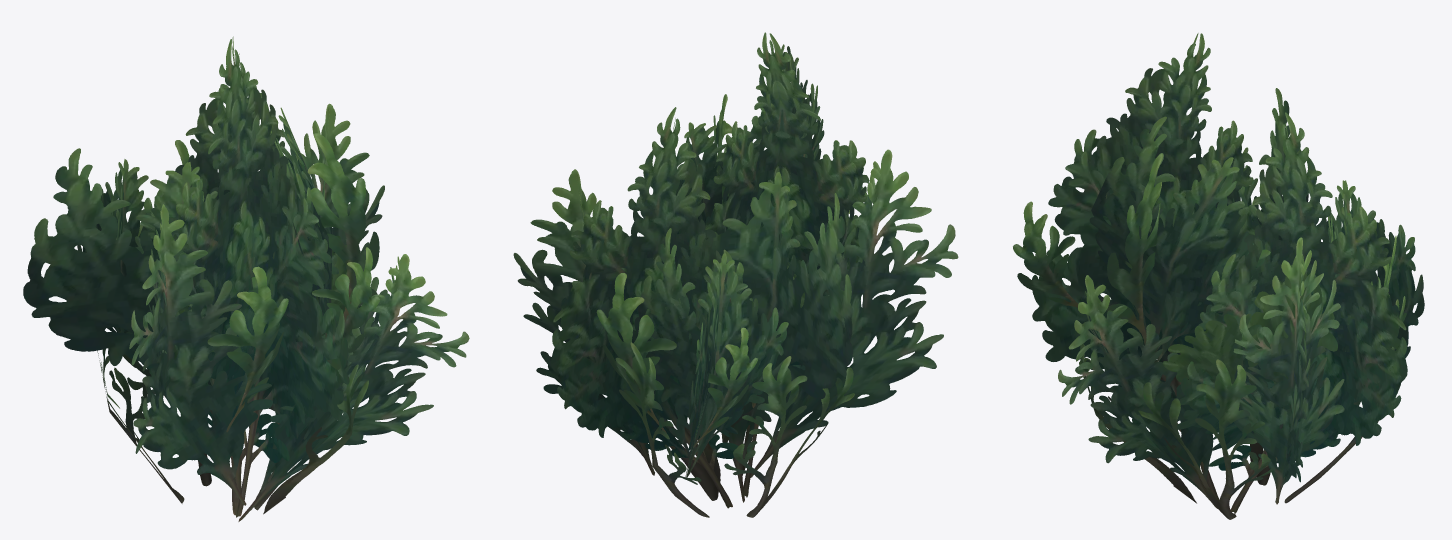
The picture shows the model from 3 angles, left to right: view 1: azimuth 30°, elevation 25°; view 2: azimuth 150°, elevation 25°; view 3: azimuth 270°, elevation 25°; orthographic projection. The views are drawn at different scales.
Size of the model in its own units: 3.1 by 4.13 by 3.3.
Materials: 1 (1 with a texture image).
